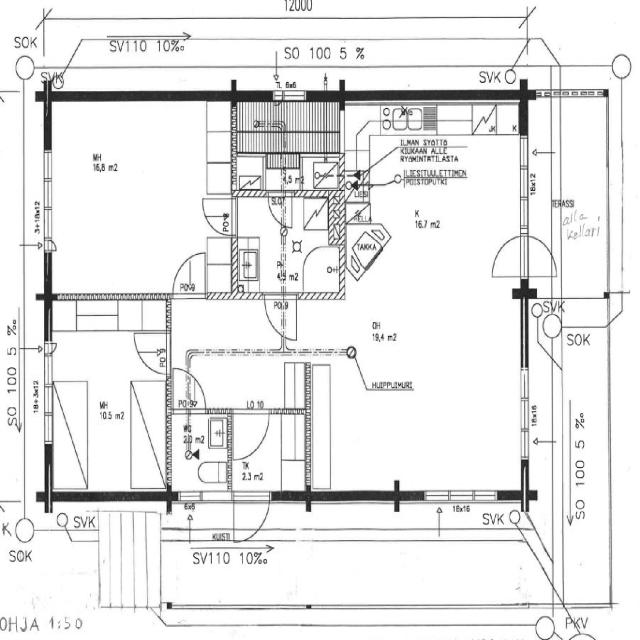door: (230, 488, 273, 543), (231, 408, 272, 464), (169, 247, 208, 298), (488, 230, 527, 280), (522, 232, 557, 281), (199, 193, 237, 238), (131, 332, 169, 375), (262, 292, 291, 338), (182, 370, 208, 410), (604, 288, 626, 324), (266, 192, 288, 226)
window: (513, 131, 535, 238), (38, 147, 58, 246), (38, 348, 58, 446), (515, 362, 533, 459), (422, 486, 499, 504), (172, 487, 231, 507), (516, 407, 532, 462), (336, 105, 348, 152), (280, 90, 308, 102)
zone: (46, 97, 222, 296), (47, 303, 168, 497), (357, 106, 519, 184), (554, 90, 610, 304), (236, 194, 299, 293), (168, 412, 231, 494), (302, 243, 344, 297), (301, 154, 341, 192), (232, 153, 268, 195), (304, 194, 328, 230)
